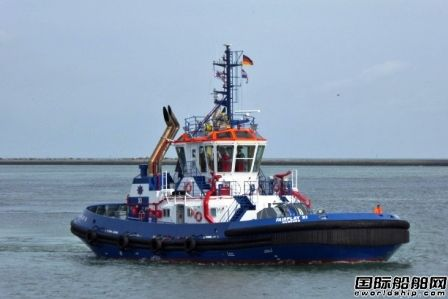otherboat: (67, 40, 413, 268)
